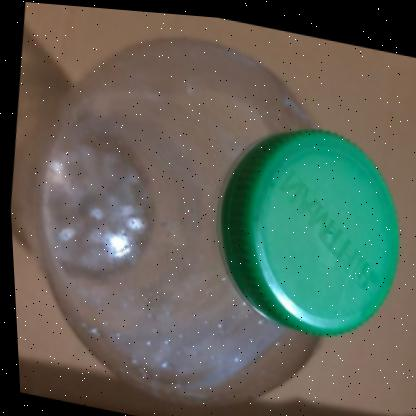bottle cap: (75, 14, 416, 416)
